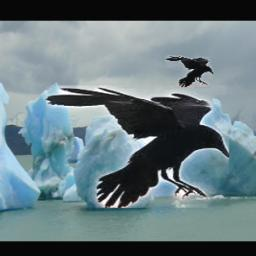Crow: (47, 85, 230, 208), (165, 56, 213, 88)
